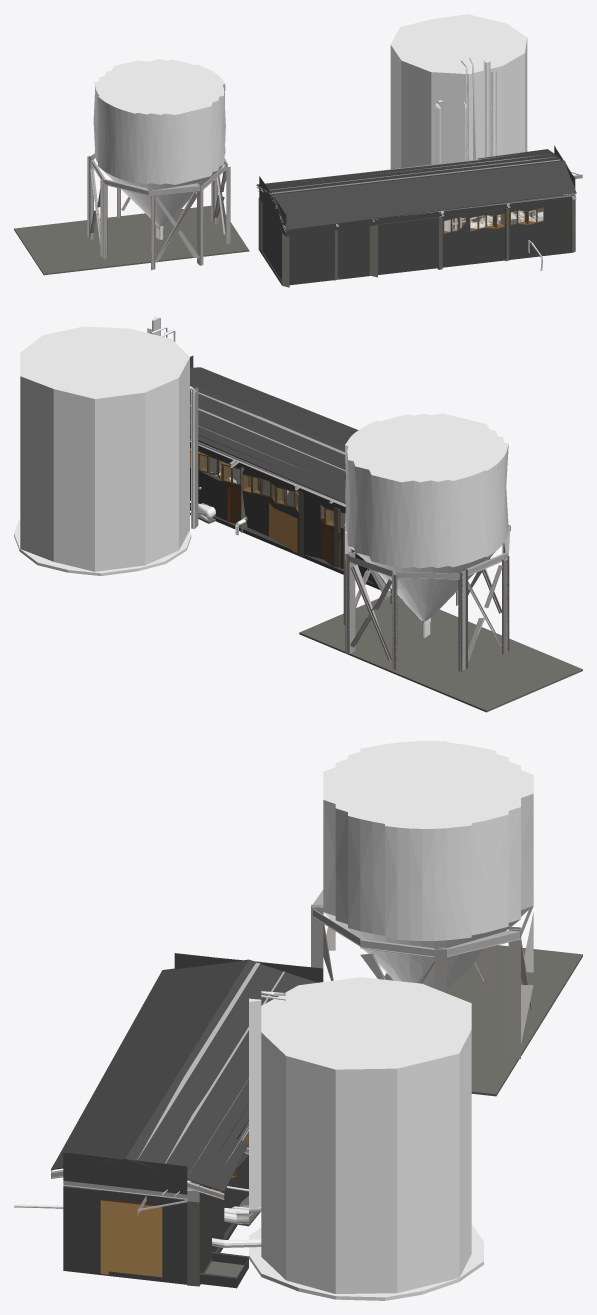
Rendered from SALA_BOMBEO_PEW_AR_CENTRADO.glb.
3 views of the same model, one above another, from view 1: azimuth 30°, elevation 25°; view 2: azimuth 150°, elevation 25°; view 3: azimuth 270°, elevation 25° (orthographic). The views are drawn at different scales.
Visible parts, largest first — view 1: Fake_c0dfcc, Fake_4ab935, Fake_d558ea, Fake, Fake_4c159c, Fake_c50a32; view 2: Fake_c0dfcc, Fake_4ab935, Fake_d558ea, Fake, Fake_c50a32, Fake_4c159c, Fake_86f68f, Fake_af74c7; view 3: Fake_c0dfcc, Fake_4ab935, Fake, Fake_d558ea, Fake_86f68f.
Part boxes in pixels (box(x1,y1,x2,y2)): Fake_c0dfcc: box(93, 14, 543, 270); Fake_4ab935: box(257, 145, 576, 285); Fake_d558ea: box(14, 198, 575, 287); Fake: box(87, 153, 582, 270); Fake_4c159c: box(444, 209, 542, 231); Fake_c50a32: box(443, 207, 543, 234); Fake_c0dfcc: box(14, 316, 508, 637); Fake_4ab935: box(190, 355, 390, 589); Fake_d558ea: box(190, 467, 582, 712); Fake: box(190, 367, 510, 672); Fake_c50a32: box(190, 448, 345, 529); Fake_4c159c: box(190, 453, 344, 527); Fake_86f68f: box(269, 502, 297, 553); Fake_af74c7: box(229, 487, 343, 568); Fake_c0dfcc: box(14, 741, 533, 1300); Fake_4ab935: box(51, 953, 323, 1288); Fake: box(51, 890, 533, 1215); Fake_d558ea: box(187, 945, 582, 1286); Fake_86f68f: box(100, 1200, 162, 1276).
Size of the model in its own units: 34.81 by 11.16 by 23.
